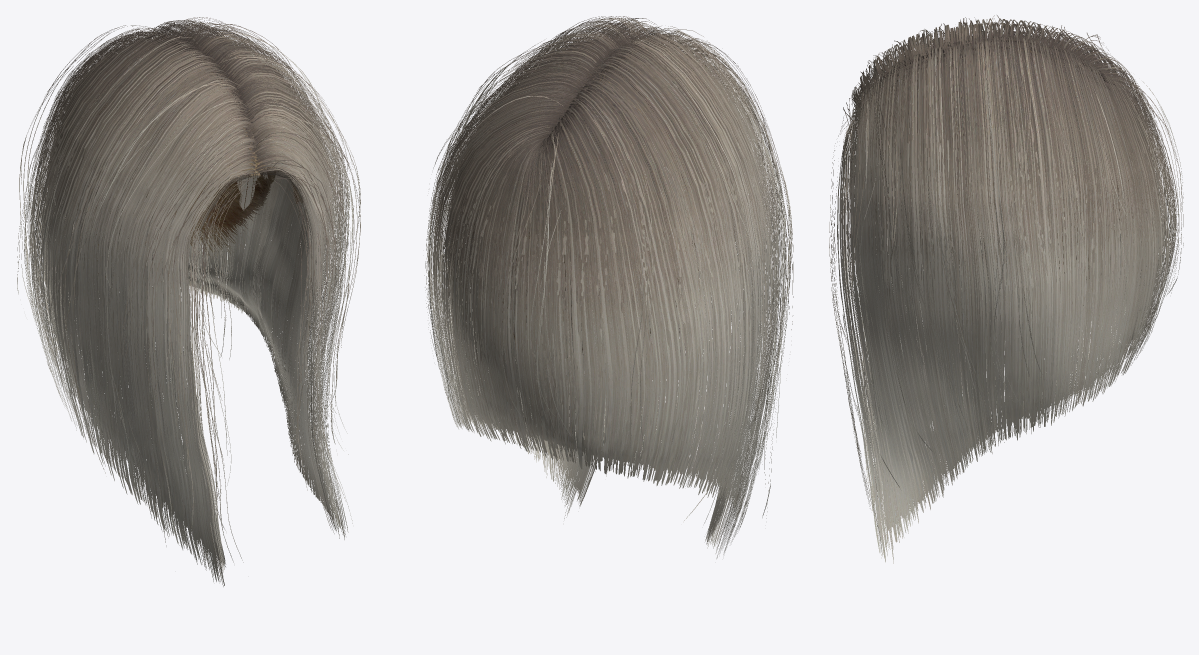
Rendered from dint_hair_13.glb.
The picture shows the model from 3 angles, left to right: view 1: azimuth 30°, elevation 25°; view 2: azimuth 150°, elevation 25°; view 3: azimuth 270°, elevation 25°; orthographic projection. The views are drawn at different scales.
Visible parts, largest first — view 1: a3L_a3L, a4L_a4L, a2L_a2L, a0R_a0R, a5L_a5L, a2R_a2R, a4R_a4R, a3R_a3R, a5R_a5R, a1R_a1R, a1L_a1L, 1Hl_1Hl (+1 smaller); view 2: a3L_a3L, a2L_a2L, a4L_a4L, a3R_a3R, a4R_a4R, a2R_a2R, a1L_a1L, a5L_a5L, a5R_a5R, a1R_a1R, a0L_a0L, a0R_a0R; view 3: a3R_a3R, a4R_a4R, a2R_a2R, a5R_a5R, a1R_a1R, a3L_a3L, a2L_a2L, a4L_a4L, a0R_a0R, a5L_a5L, a1L_a1L.
Boxes of the visible parts, <box> form: a3L_a3L: <box>30,31,254,586</box>; a4L_a4L: <box>23,28,256,581</box>; a2L_a2L: <box>42,38,255,577</box>; a0R_a0R: <box>147,40,330,515</box>; a5L_a5L: <box>17,25,259,562</box>; a2R_a2R: <box>152,30,340,533</box>; a4R_a4R: <box>136,19,349,532</box>; a3R_a3R: <box>128,23,345,539</box>; a5R_a5R: <box>169,17,360,523</box>; a1R_a1R: <box>163,36,330,515</box>; a1L_a1L: <box>46,43,249,566</box>; 1Hl_1Hl: <box>70,57,303,277</box>; a3L_a3L: <box>531,34,779,558</box>; a2L_a2L: <box>517,40,770,553</box>; a4L_a4L: <box>530,29,786,554</box>; a3R_a3R: <box>433,22,672,518</box>; a4R_a4R: <box>426,18,678,505</box>; a2R_a2R: <box>445,30,657,506</box>; a1L_a1L: <box>520,48,763,544</box>; a5L_a5L: <box>530,26,793,529</box>; a5R_a5R: <box>424,16,673,499</box>; a1R_a1R: <box>450,38,644,493</box>; a0L_a0L: <box>527,51,749,541</box>; a0R_a0R: <box>468,42,637,492</box>; a3R_a3R: <box>839,39,1176,563</box>; a4R_a4R: <box>837,36,1179,552</box>; a2R_a2R: <box>843,46,1165,549</box>; a5R_a5R: <box>829,36,1183,551</box>; a1R_a1R: <box>856,51,1158,533</box>; a3L_a3L: <box>854,22,1173,510</box>; a2L_a2L: <box>855,29,1165,502</box>; a4L_a4L: <box>851,18,1175,503</box>; a0R_a0R: <box>872,55,1139,518</box>; a5L_a5L: <box>843,15,1183,492</box>; a1L_a1L: <box>870,35,1149,494</box>.
Size of the model in its own units: 0.2434 by 0.4268 by 0.2405.
13 materials, 13 textured.
